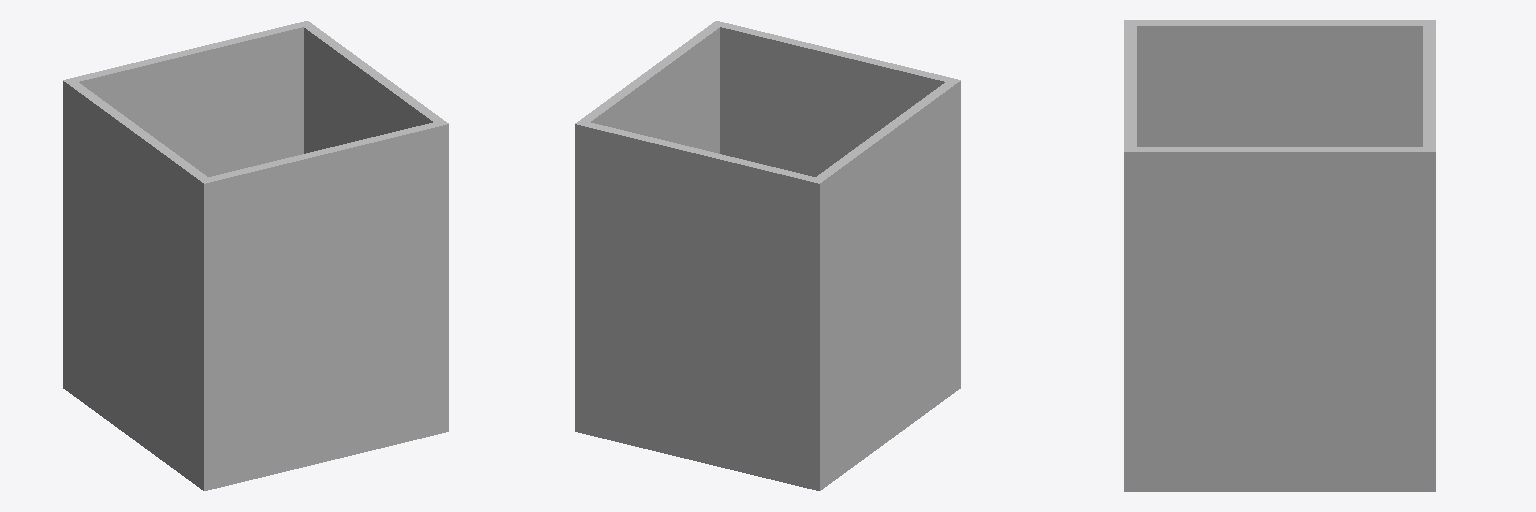
The robot description file, URDF, robot "laundry_basket":
<?xml version="1.0"?>
<robot name="laundry_basket">
  <material name="basket_mat">
    <color rgba="0.8 0.8 0.8 1.0"/>
  </material>

  <link name="base_link">
    <inertial>
      <mass value="2.0"/>
      <origin xyz="0 0 0.3" rpy="0 0 0"/>
      <inertia ixx="0.08" ixy="0" ixz="0" iyy="0.08" iyz="0" izz="0.08"/>
    </inertial>
    
    <!-- Bottom -->
    <visual><origin xyz="0 0 0.01" rpy="0 0 0"/><geometry><box size="0.5 0.5 0.02"/></geometry><material name="basket_mat"/></visual>
    <collision><origin xyz="0 0 0.01" rpy="0 0 0"/><geometry><box size="0.5 0.5 0.02"/></geometry></collision>

    <!-- Left -->
    <visual><origin xyz="-0.24 0 0.31" rpy="0 0 0"/><geometry><box size="0.02 0.5 0.58"/></geometry><material name="basket_mat"/></visual>
    <collision><origin xyz="-0.24 0 0.31" rpy="0 0 0"/><geometry><box size="0.02 0.5 0.58"/></geometry></collision>

    <!-- Right -->
    <visual><origin xyz="0.24 0 0.31" rpy="0 0 0"/><geometry><box size="0.02 0.5 0.58"/></geometry><material name="basket_mat"/></visual>
    <collision><origin xyz="0.24 0 0.31" rpy="0 0 0"/><geometry><box size="0.02 0.5 0.58"/></geometry></collision>

    <!-- Front -->
    <visual><origin xyz="0 0.24 0.31" rpy="0 0 0"/><geometry><box size="0.46 0.02 0.58"/></geometry><material name="basket_mat"/></visual>
    <collision><origin xyz="0 0.24 0.31" rpy="0 0 0"/><geometry><box size="0.46 0.02 0.58"/></geometry></collision>

    <!-- Back -->
    <visual><origin xyz="0 -0.24 0.31" rpy="0 0 0"/><geometry><box size="0.46 0.02 0.58"/></geometry><material name="basket_mat"/></visual>
    <collision><origin xyz="0 -0.24 0.31" rpy="0 0 0"/><geometry><box size="0.46 0.02 0.58"/></geometry></collision>
  </link>
</robot>

--- Render facts (derived) ---
3 views of the same robot in one strip: view 1: azimuth 30°, elevation 25°; view 2: azimuth 150°, elevation 25°; view 3: azimuth 270°, elevation 25° (orthographic).
Robot: laundry_basket — 1 links, 0 joints (none); root link base_link; default pose: every joint at zero.
Visible links, largest first — view 1: base_link; view 2: base_link; view 3: base_link.
Boxes of the visible links, <box> form: base_link: <box>63,21,448,490</box>; base_link: <box>575,21,960,490</box>; base_link: <box>1124,20,1435,491</box>.
Size in the robot's own frame: 0.5 by 0.5 by 0.6 metres.
Geometry: primitives only (box / cylinder / sphere), no mesh files.
